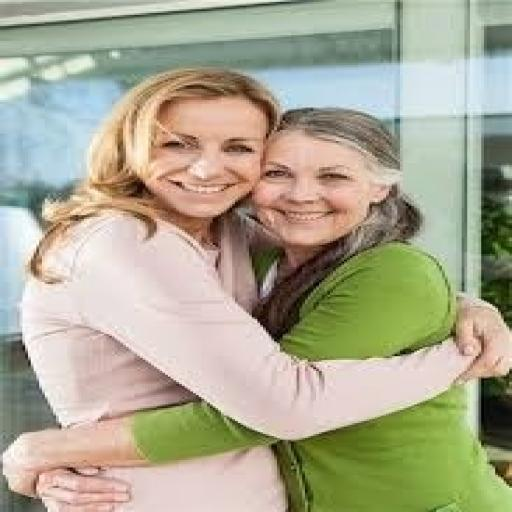hugging: (3, 65, 509, 510)
